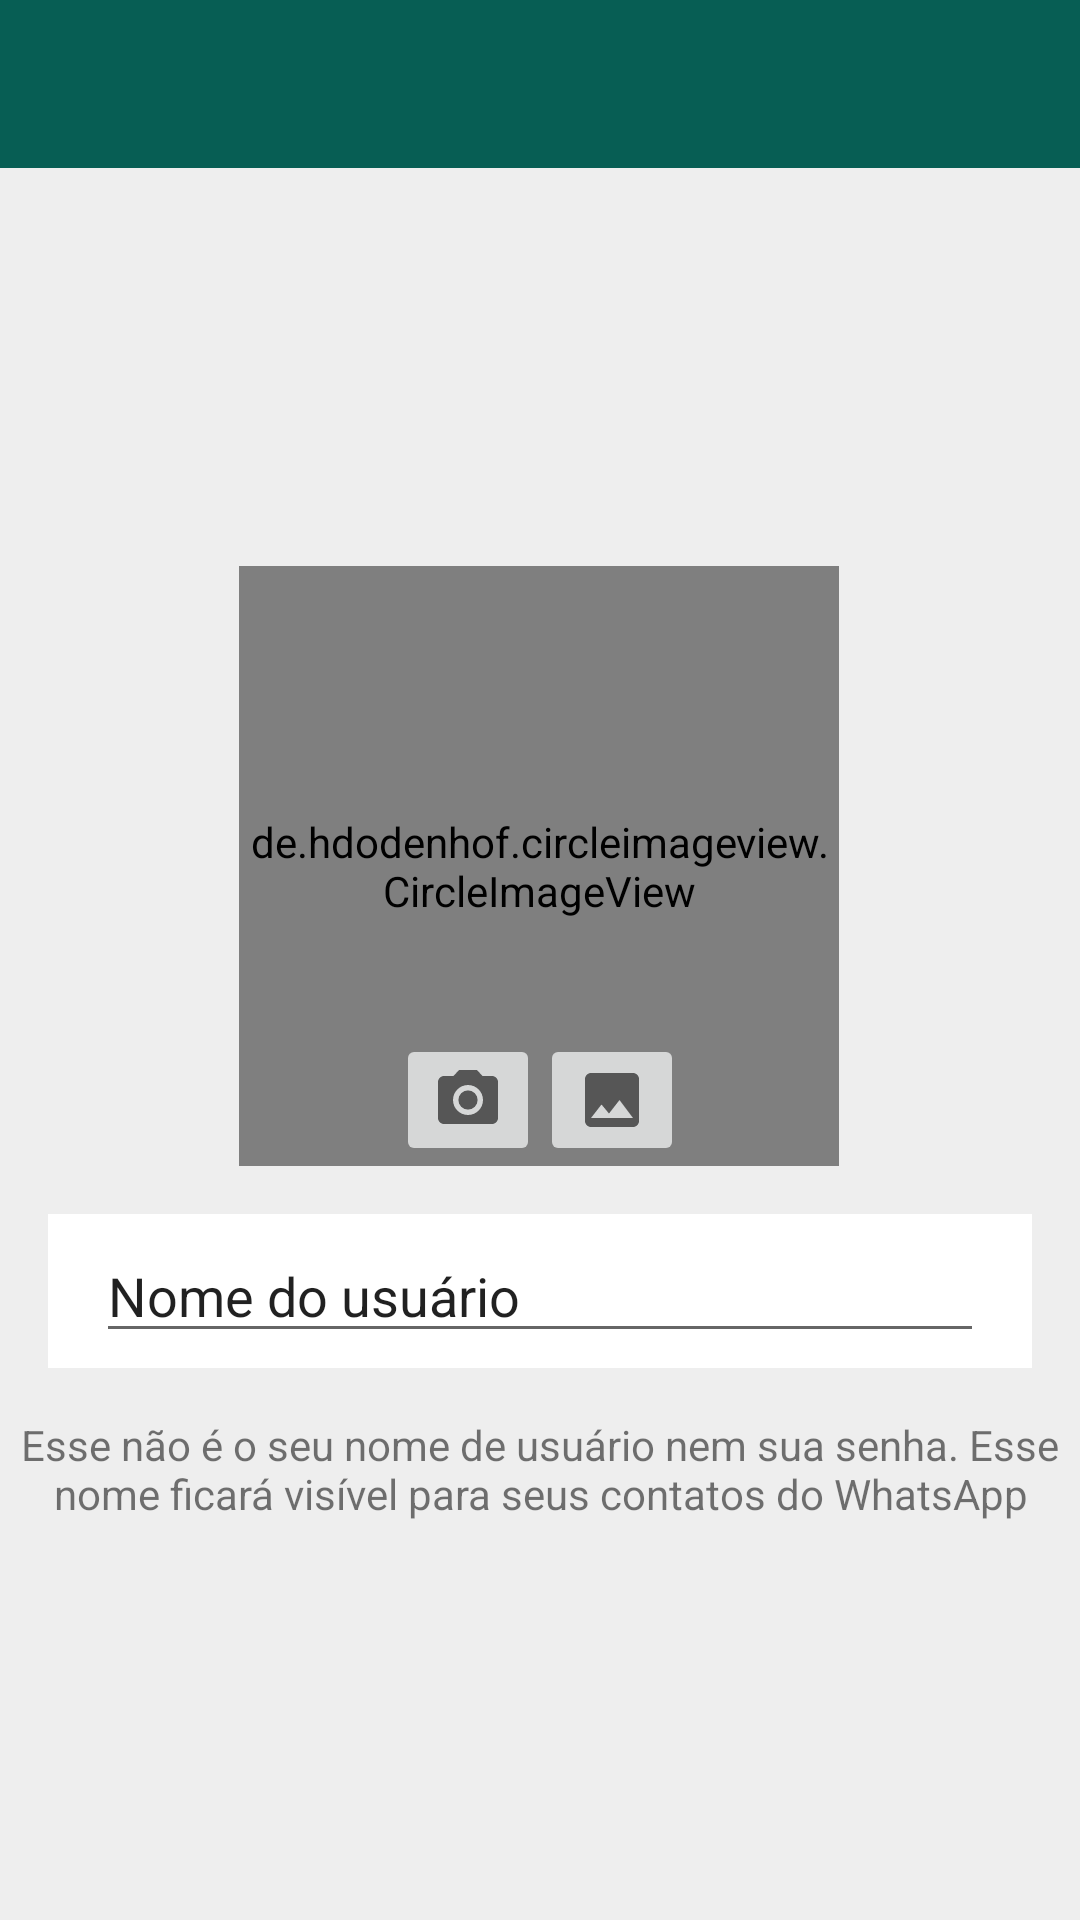

Icons on this 1080 × 1920 Android screen, each with the point to tap as [x,y]:
camera cinza: [468,1100]
photo: [612,1100]
